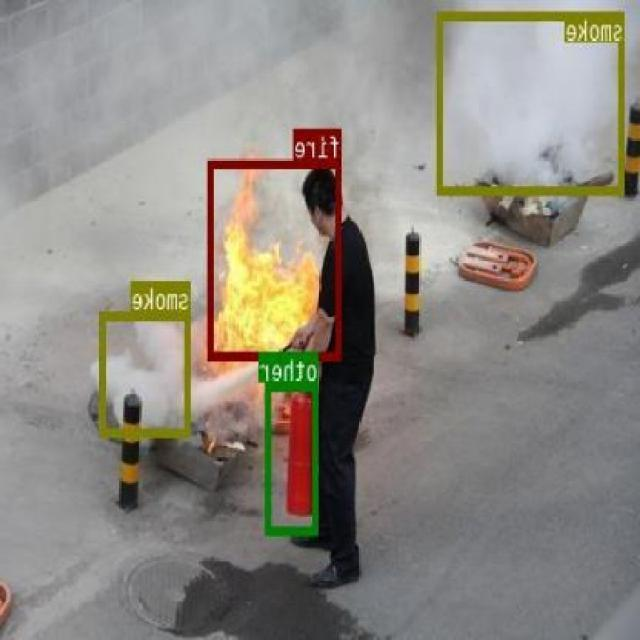Fire: (210, 158, 342, 358)
Smoke: (438, 11, 626, 194), (222, 0, 416, 105), (102, 310, 192, 436)
